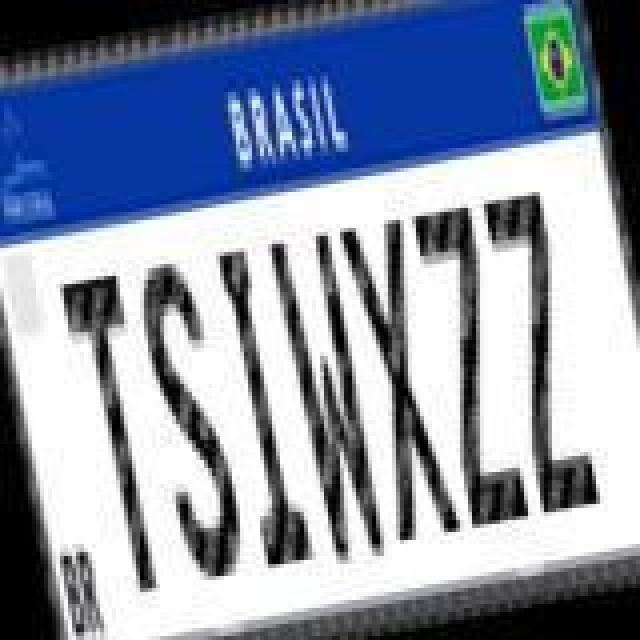I: (204, 242, 316, 574)
S: (130, 254, 254, 586)
T: (60, 266, 180, 598)
W: (266, 230, 390, 570)
X: (336, 212, 464, 548)
Z: (410, 202, 534, 534), (478, 186, 602, 518)
